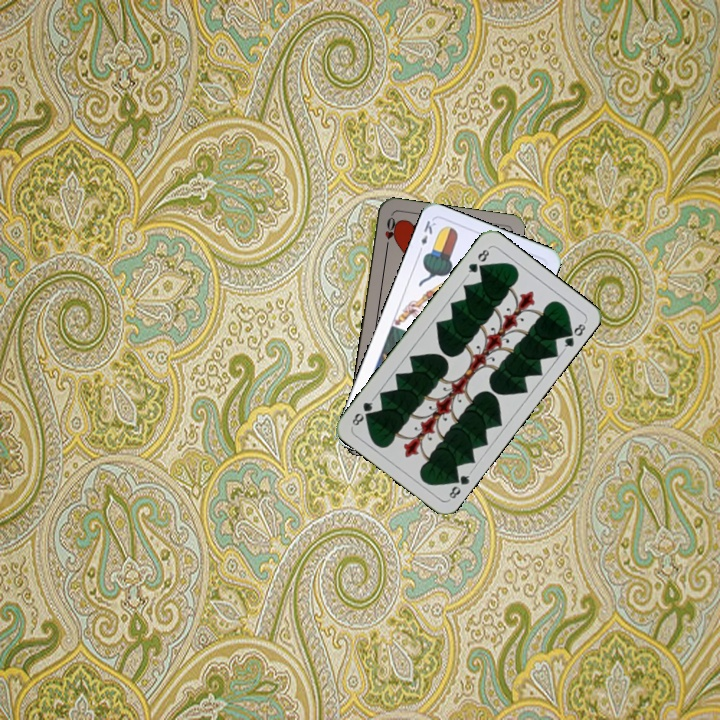EK: (414, 216, 438, 256)
G8: (463, 244, 492, 279), (445, 468, 474, 503)
HO: (381, 213, 399, 253)
